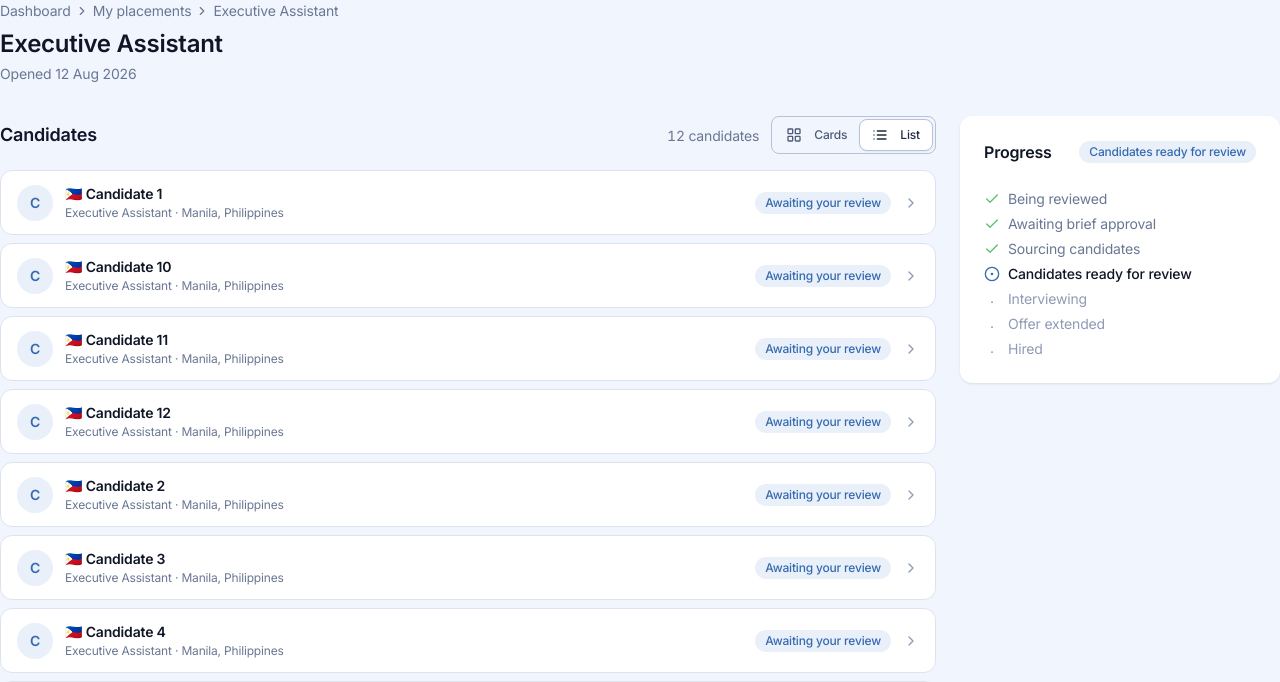
it: candidate views › opens the FULL card in a sheet, so decisions never live on the row
Expected: the button "Move forward to interview" is not shown
Click the button with aria-label "Review Candidate 1".
click(35, 202)  # box [0,170,936,235]
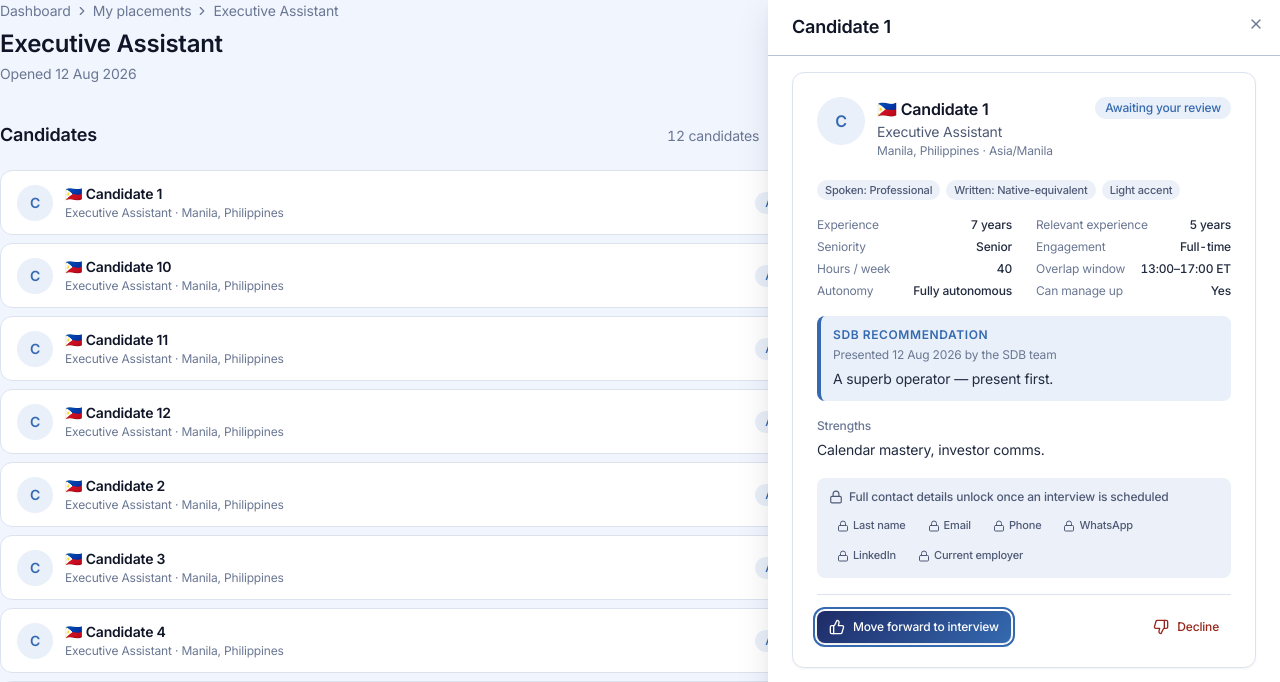
Result: the element named "Candidate Candidate 1" is shown at [792,72,1256,668]
Result: the button "Move forward to interview" is shown at [817,610,1011,642]
